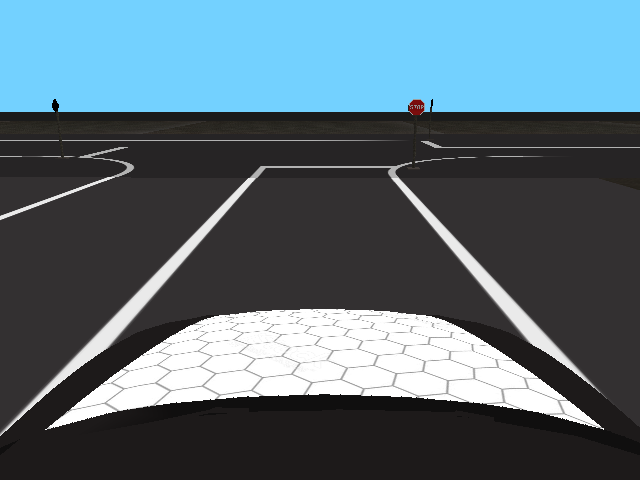stop: (407, 99, 425, 116)
